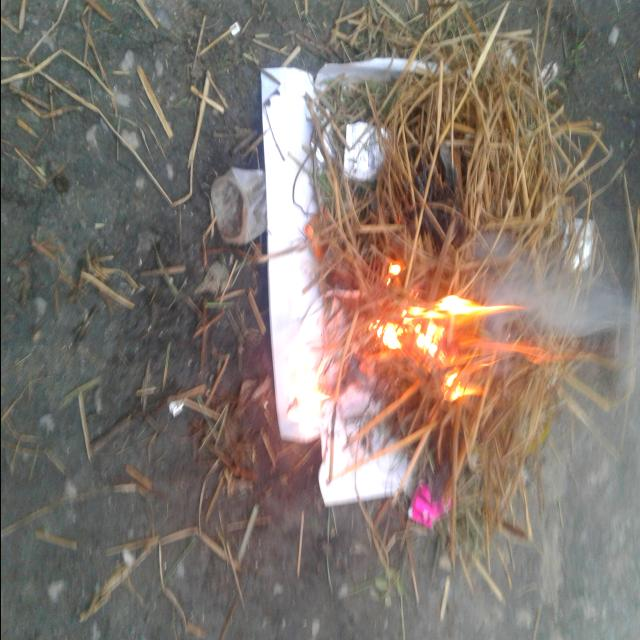firerotation: (474, 233, 640, 398), (366, 290, 564, 406), (385, 260, 407, 286)
